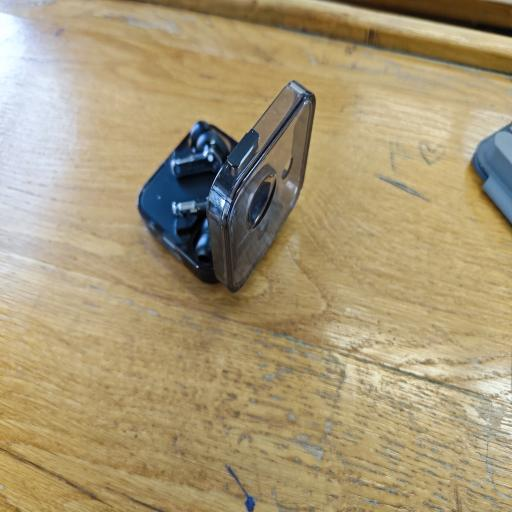CASTI: (132, 74, 318, 294)
